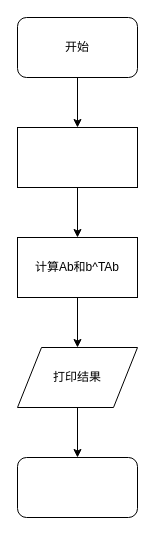
Image size: 155x535. Some labels were removed from this diagram. The centre of each missing label's shape, as x and y in pixels:
定义矩阵A和列向量b: [77,157]
结束: [77,487]
